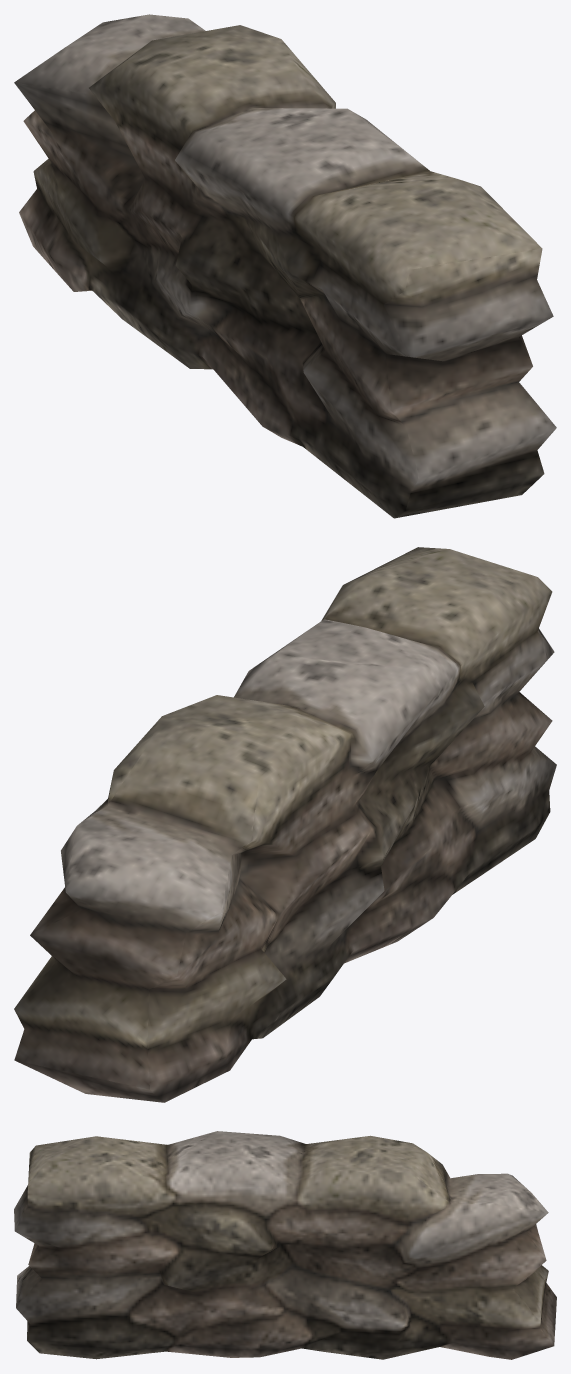
Rendered from Wallbags.fbx.
3 views of the same model, one above another, from view 1: azimuth 30°, elevation 25°; view 2: azimuth 150°, elevation 25°; view 3: azimuth 270°, elevation 25° (orthographic). The views are drawn at different scales.
Visible parts, largest first — view 1: sack_wall_2_500tris_Group18884; view 2: sack_wall_2_500tris_Group18884; view 3: sack_wall_2_500tris_Group18884.
Part boxes in pixels (x1,y1,x2,y2): sack_wall_2_500tris_Group18884: (14,14,556,518); sack_wall_2_500tris_Group18884: (14,547,556,1102); sack_wall_2_500tris_Group18884: (14,1131,556,1359).
Bounding box in the file's own units: 1.45 × 2.03 × 5.19.
